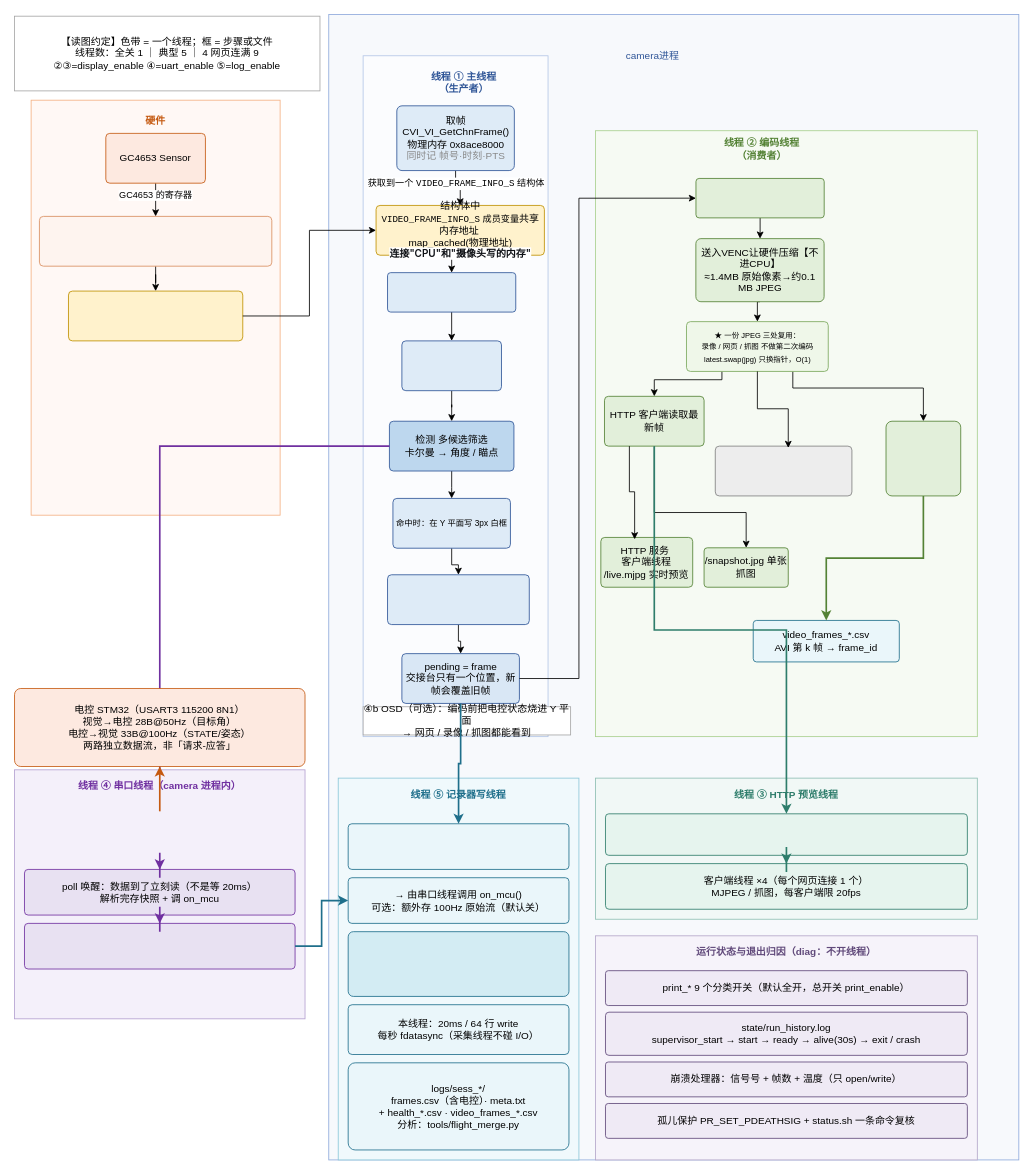
Some shapes in this 1033 by 1174 pixel diagram are drawn without their labels. The centre of each missing label's shape, as x and y in pixels:
CVI_SYS_IonFlushCache()，让编码器看到: the point at 458,599
CVI_VI_ReleaseChnFrame() 归还原始 VI 帧: the point at 783,470
VB 池：固定 8 块内存（不增长） 每块 1280×720 NV21 = Y 921600 B + UV 460800 B: the point at 155,315
→ 由主线程调用 on_frame() 每帧一行（32 列：视觉 + 电控 9 列）: the point at 458,846
主线程只读「最近一帧」快照 写进 frames.csv 的 mcu_* 列 / OSD: the point at 159,946
从交付台中取帧: the point at 759,198
写录像 recordings/*.avi: the point at 923,458
抽点 320×180 每 4×4 块取代表点，数据量降到 1/16: the point at 451,365
服务线程：accept 连接，最多 4 个客户端槽（满了回 503）: the point at 786,834
环形缓冲 2048 行（≈11s，预录 3s） STATIC→FLIGHT 开段 FLIGHT→STOP 再记 2s 收尾: the point at 458,963
硬件把 Bayer RAW 经 MIPI 送入 VI；VI/ISP 在硬件里完成去马赛克、 曝光增益、转成 NV21，然后 DMA 直写 DRAM: the point at 155,241
读取 虚拟A-17地址 的像素: the point at 451,292
